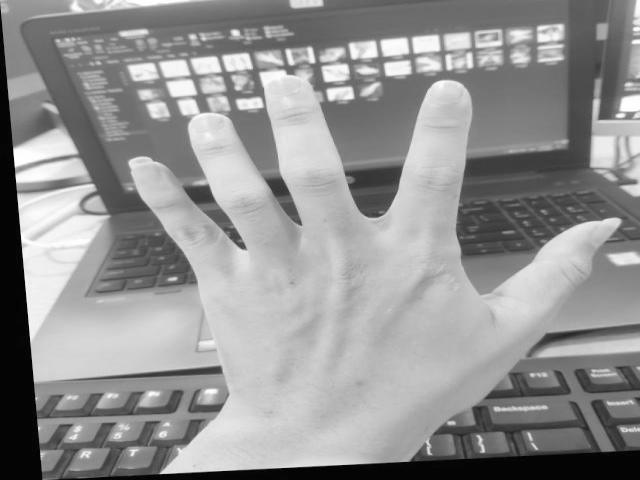not-gloved: (131, 79, 612, 450)
